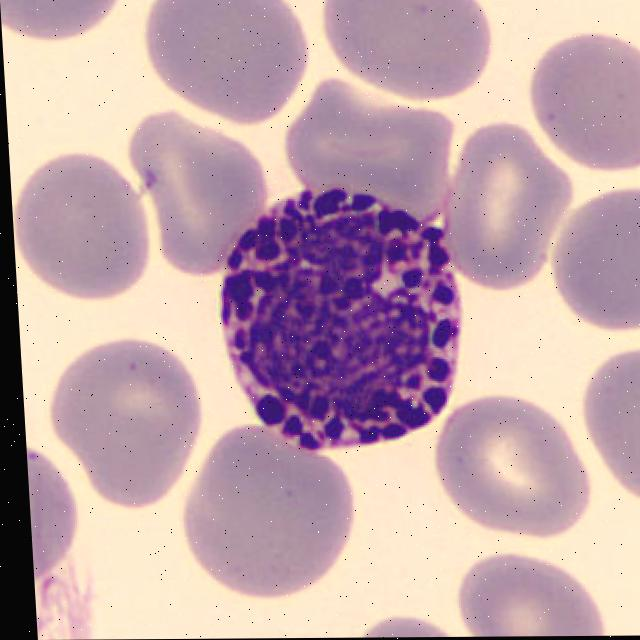basophil: (201, 197, 481, 450)
rbc: (38, 333, 245, 530), (164, 439, 367, 600), (312, 0, 513, 124), (10, 161, 170, 314), (277, 98, 459, 227), (421, 404, 588, 543), (432, 137, 577, 293), (131, 123, 274, 278), (138, 0, 314, 124), (532, 189, 640, 352), (520, 34, 640, 177), (454, 559, 632, 637), (570, 341, 640, 508), (27, 449, 96, 596), (0, 0, 123, 37), (344, 615, 465, 638)
